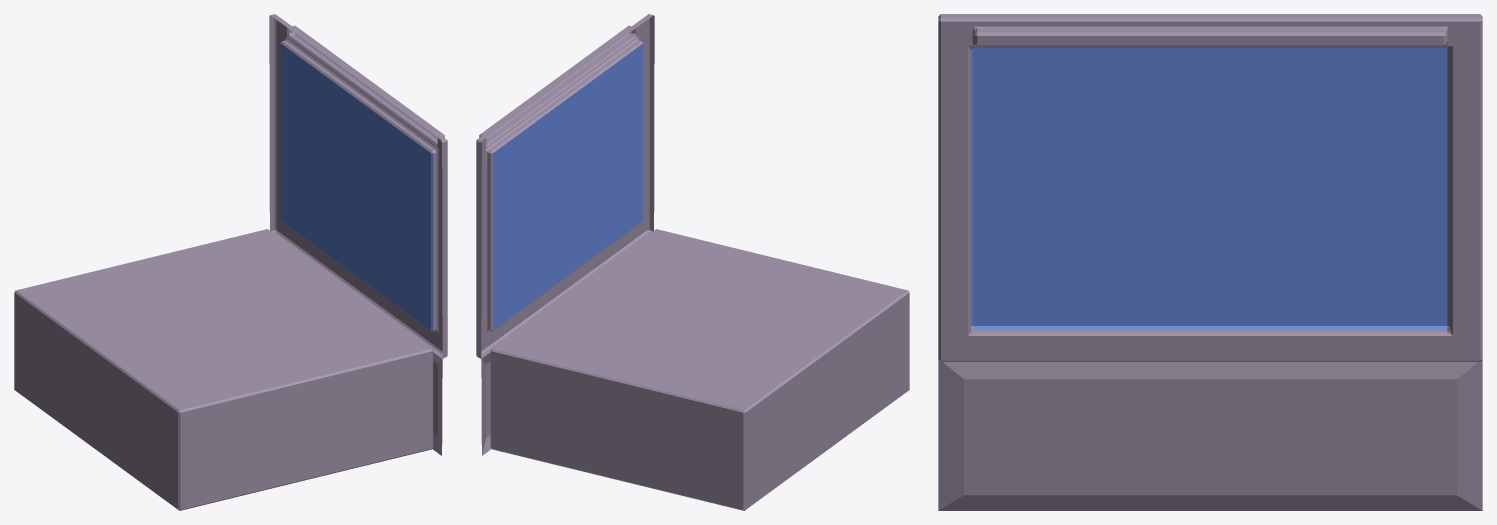
File: Stove Mod.fbx
The picture shows the model from 3 angles, left to right: view 1: azimuth 30°, elevation 25°; view 2: azimuth 150°, elevation 25°; view 3: azimuth 270°, elevation 25°; orthographic projection. The views are drawn at different scales.
Parts seen in each view (by area): view 1: Stove Mod; view 2: Stove Mod; view 3: Stove Mod.
Part boxes in pixels (x1,y1,x2,y2): Stove Mod: (14,14,447,510); Stove Mod: (476,14,909,510); Stove Mod: (938,14,1482,510).
Bounding box in the file's own units: 0.8904 × 0.9773 × 0.9706.
